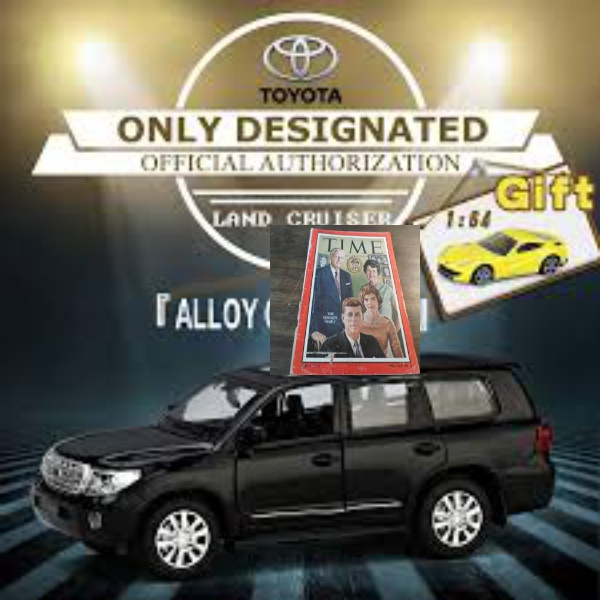time_cover: (301, 227, 418, 378)
